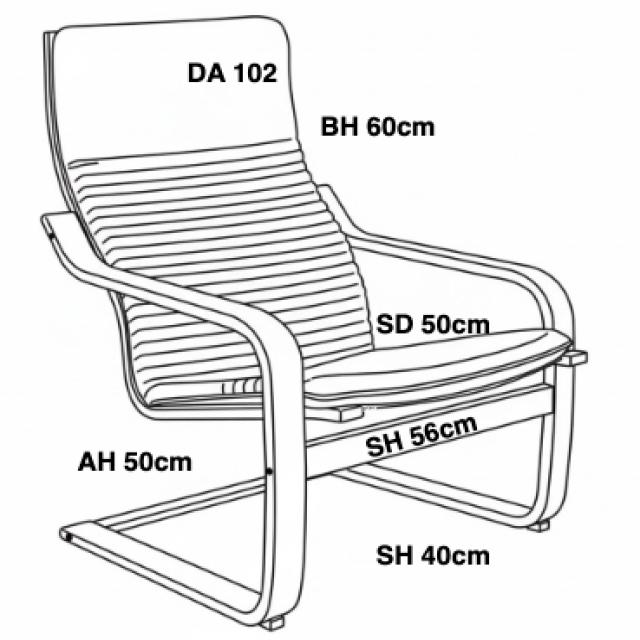AH_Label: (77, 447, 192, 472)
Armrest: (42, 211, 339, 423), (316, 186, 578, 399)
BH_Label: (323, 115, 434, 137)
Backrest: (45, 15, 377, 396)
DA_Label: (187, 60, 280, 85)
Leg_Structure: (60, 364, 576, 626)
SD_Label: (376, 312, 492, 338)
SH_Label: (364, 411, 481, 459), (377, 541, 492, 566)
Seat: (144, 329, 571, 408)
